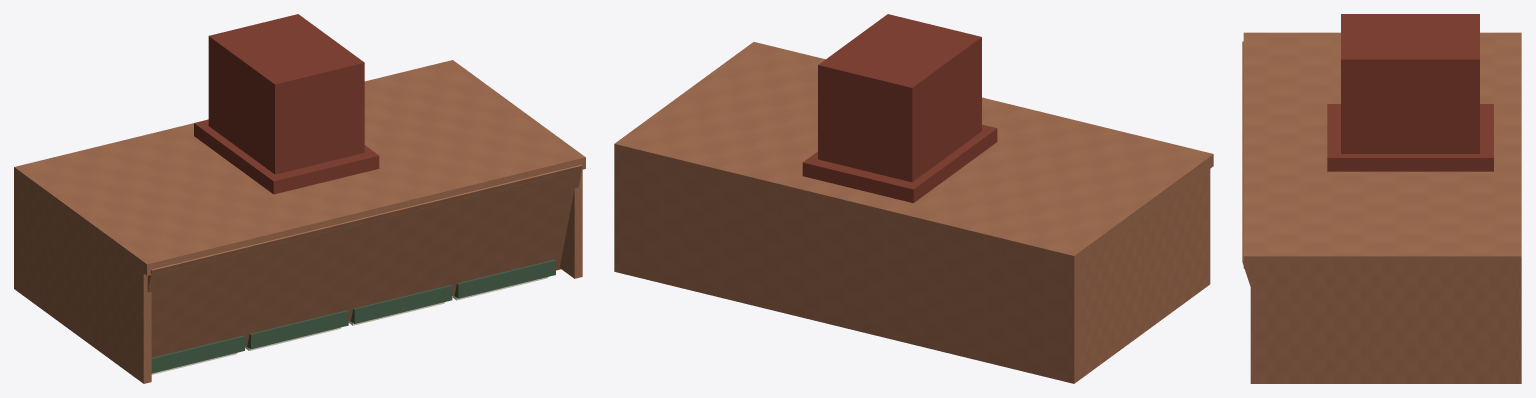
3 renders of one model, left to right at view 1: azimuth 30°, elevation 25°; view 2: azimuth 150°, elevation 25°; view 3: azimuth 270°, elevation 25°, orthographic. The views are drawn at different scales.
Visible parts, largest first — view 1: Copper canopy, Exhaust collar, Removable filter banks; view 2: Copper canopy, Exhaust collar; view 3: Copper canopy, Exhaust collar.
Part boxes in pixels (bbox=[...]): Copper canopy: bbox=[14, 60, 585, 383]; Exhaust collar: bbox=[194, 14, 379, 194]; Removable filter banks: bbox=[151, 259, 555, 374]; Copper canopy: bbox=[614, 42, 1213, 383]; Exhaust collar: bbox=[802, 14, 997, 202]; Copper canopy: bbox=[1242, 32, 1521, 383]; Exhaust collar: bbox=[1327, 14, 1493, 171].
Size of the model in its own units: 2.65 by 1.35 by 1.4.
1 material, 1 textured.
